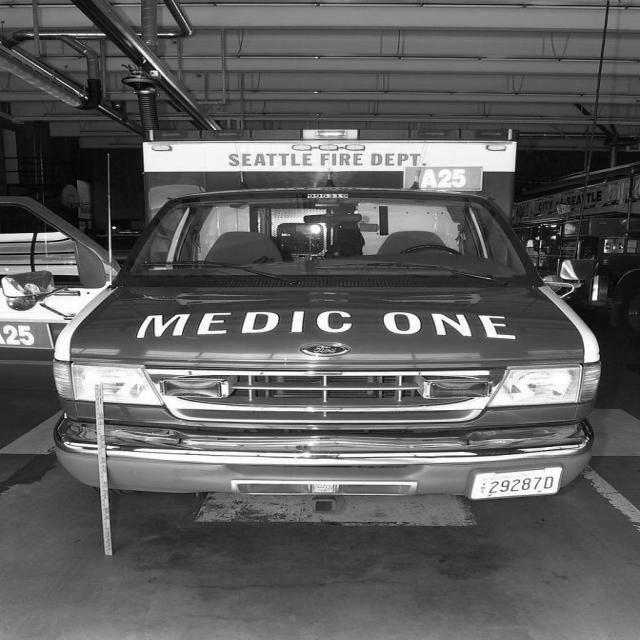Ambulance: (0, 129, 601, 503)
